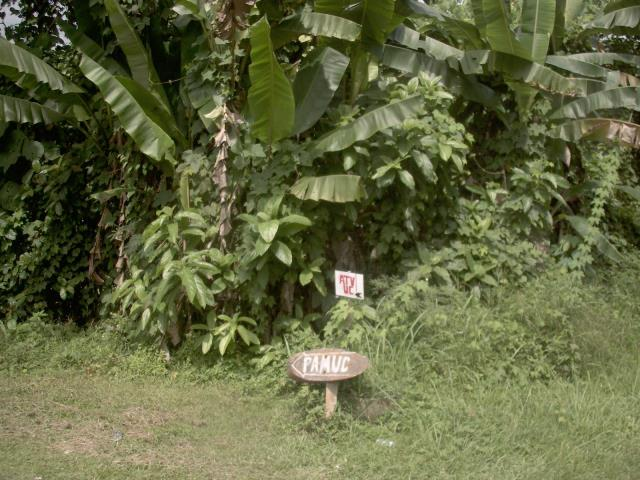ads_sign: (326, 264, 371, 306)
